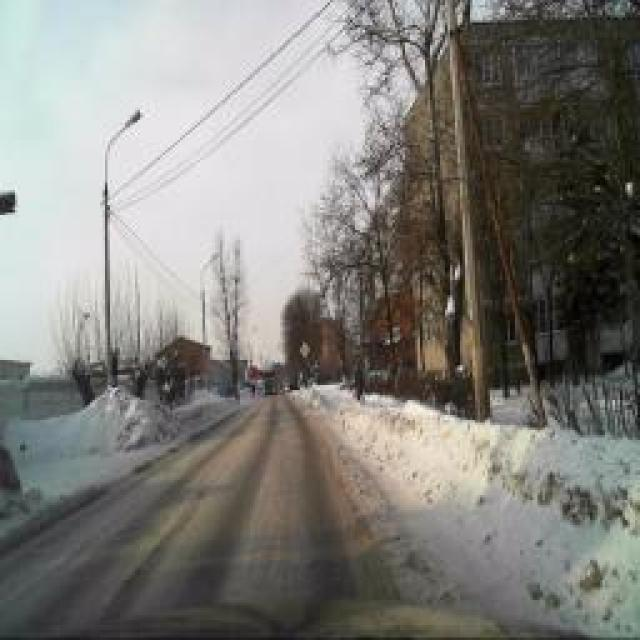sign: (300, 341, 310, 359)
